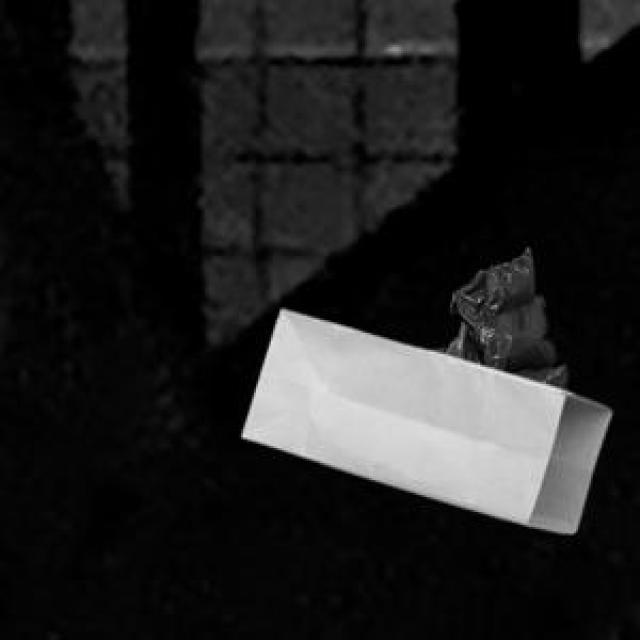miscellaneous trash: (427, 243, 563, 388)
paper: (239, 305, 608, 529)
